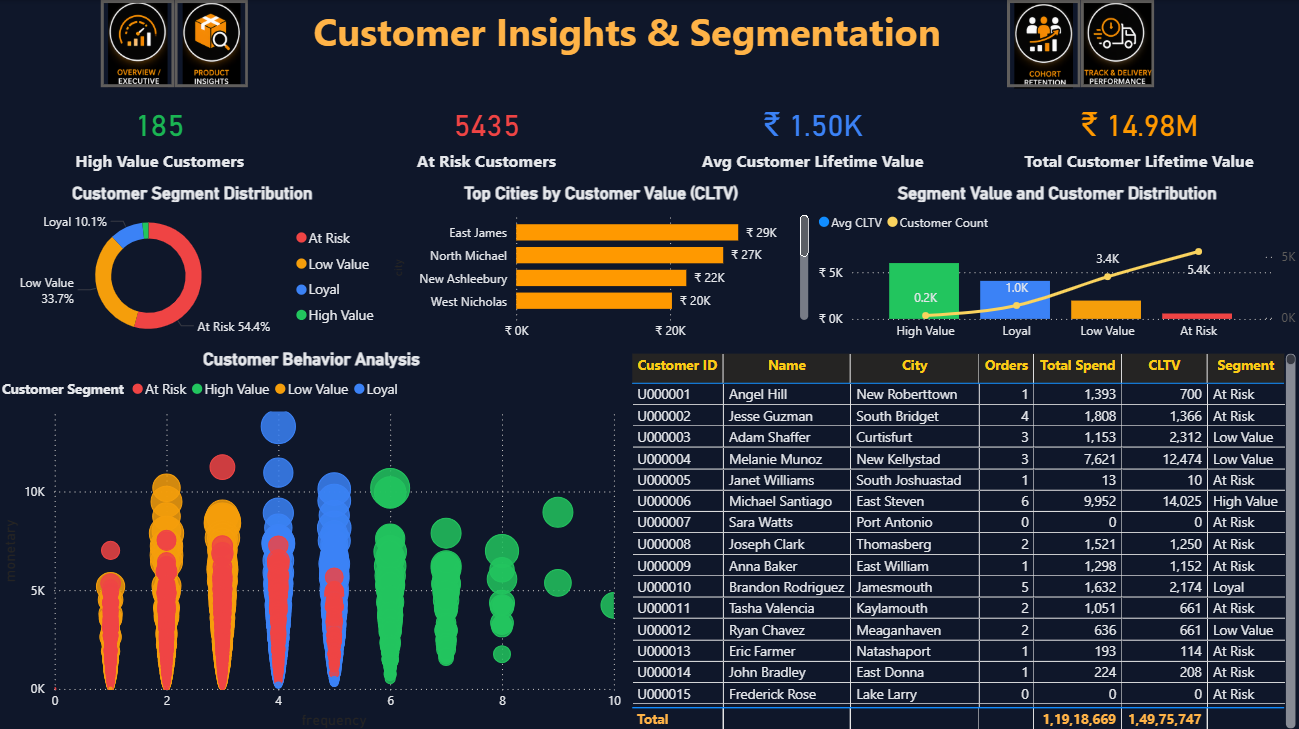

The page's visual inventory and layout, read from the dashboard file:
{"tool":"powerbi","page":{"name":"CUSTOMER INSIGHTS","canvas":[1280,720],"ordinal":1},"visuals":[{"type":"card","fields":{"Values":["All Measures Table.High Value Customers"]},"box":[0,86.9,319.7,91.7],"z":0},{"type":"card","fields":{"Values":["All Measures Table.At Risk Customers"]},"box":[319.7,86.9,320.9,91.7],"z":1000},{"type":"card","fields":{"Values":["All Measures Table.Avg CLTV"]},"box":[640.6,86.9,320.9,91.7],"z":2000},{"type":"card","fields":{"Values":["All Measures Table.Total CLTV"]},"box":[961.5,86.9,318.5,91.7],"z":3000},{"type":"textbox","box":[301.6,0,633.4,77.2],"z":4000},{"type":"donutChart","title":"Customer Segment Distribution","fields":{"Category":["customer_upgrade.Customer Segment"],"Y":["Count(customer_upgrade.customer_id)"]},"box":[0,178.6,383.6,164.1],"z":5000},{"type":"clusteredBarChart","title":"Top Cities by Customer Value (CLTV)","fields":{"Category":["customer_upgrade.city"],"Y":["All Measures Table.Total CLTV"]},"box":[383.6,178.6,417.4,164.1],"z":6000},{"type":"lineClusteredColumnComboChart","title":"Segment Value and Customer Distribution","fields":{"Category":["customer_upgrade.Customer Segment"],"Y":["All Measures Table.Avg CLTV"],"Y2":["All Measures Table.Customer Count"]},"box":[801.1,178.6,479,164.1],"z":7000},{"type":"scatterChart","title":"Customer Behavior Analysis","fields":{"Series":["customer_upgrade.Customer Segment"],"Size":["Max(customer_upgrade.CLTV_New)"],"X":["customer_upgrade.frequency"],"Y":["customer_upgrade.monetary"]},"box":[0,342.6,617.7,377.6],"z":8000},{"type":"tableEx","fields":{"Values":["customer_upgrade.customer_id","customer_upgrade.name","customer_upgrade.city","customer_upgrade.total_orders","Sum(customer_upgrade.total_spent)","Sum(customer_upgrade.CLTV_New)","customer_upgrade.Customer Segment"]},"box":[617.7,342.6,662.3,377.6],"z":9000},{"type":"image","box":[101.3,0,72.4,85.7],"z":10000},{"type":"image","box":[173.7,0,72.4,85.7],"z":11000},{"type":"image","box":[991.7,1.2,72.4,85.7],"z":12000},{"type":"image","box":[1064.1,0,72,85.7],"z":13000},{"type":"actionButton","box":[991.7,0,72.4,85.7],"z":14000},{"type":"actionButton","box":[1064.1,0,72.4,85.7],"z":15000},{"type":"actionButton","box":[173.7,0,72.4,85.7],"z":16000},{"type":"actionButton","box":[101.3,0,72.4,85.7],"z":17000}]}

Visuals, with their boxes in screenshot pixels (x1, y1, x2, y2), scaled from the page's 1280x720 canvas onto the 1299x729 screenshot:
card - All Measures Table.High Value Customers: 0:88:324:181
card - All Measures Table.At Risk Customers: 324:88:650:181
card - All Measures Table.Avg CLTV: 650:88:976:181
card - All Measures Table.Total CLTV: 976:88:1298:181
textbox: 306:0:949:78
"Customer Segment Distribution" donutChart: 0:181:389:347
"Top Cities by Customer Value (CLTV)" clusteredBarChart: 389:181:813:347
"Segment Value and Customer Distribution" lineClusteredColumnComboChart: 813:181:1298:347
"Customer Behavior Analysis" scatterChart: 0:347:627:728
tableEx - customer_upgrade.customer_id x customer_upgrade.name: 627:347:1298:728
image: 103:0:176:87
image: 176:0:250:87
image: 1006:1:1080:88
image: 1080:0:1153:87
actionButton: 1006:0:1080:87
actionButton: 1080:0:1153:87
actionButton: 176:0:250:87
actionButton: 103:0:176:87
